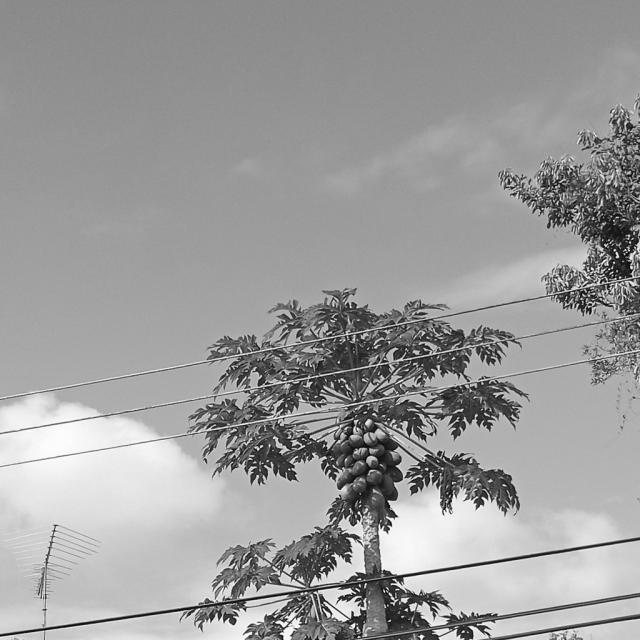Papaya-Tree: (190, 257, 536, 566)
